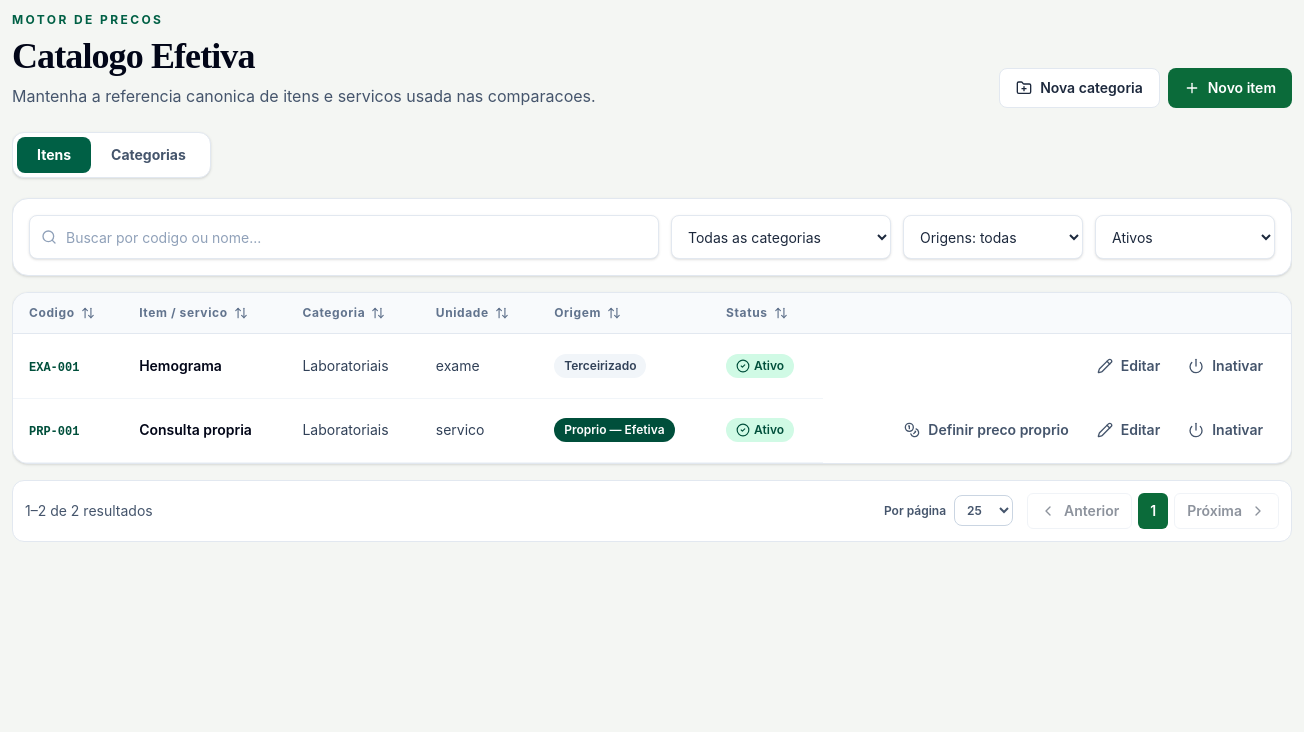
Scenario: CatalogPage › aplica busca e apresenta estado filtrado vazio
Type "inexistente" into the field named "Buscar itens". click: (344, 237)
box: [29,215,659,259]
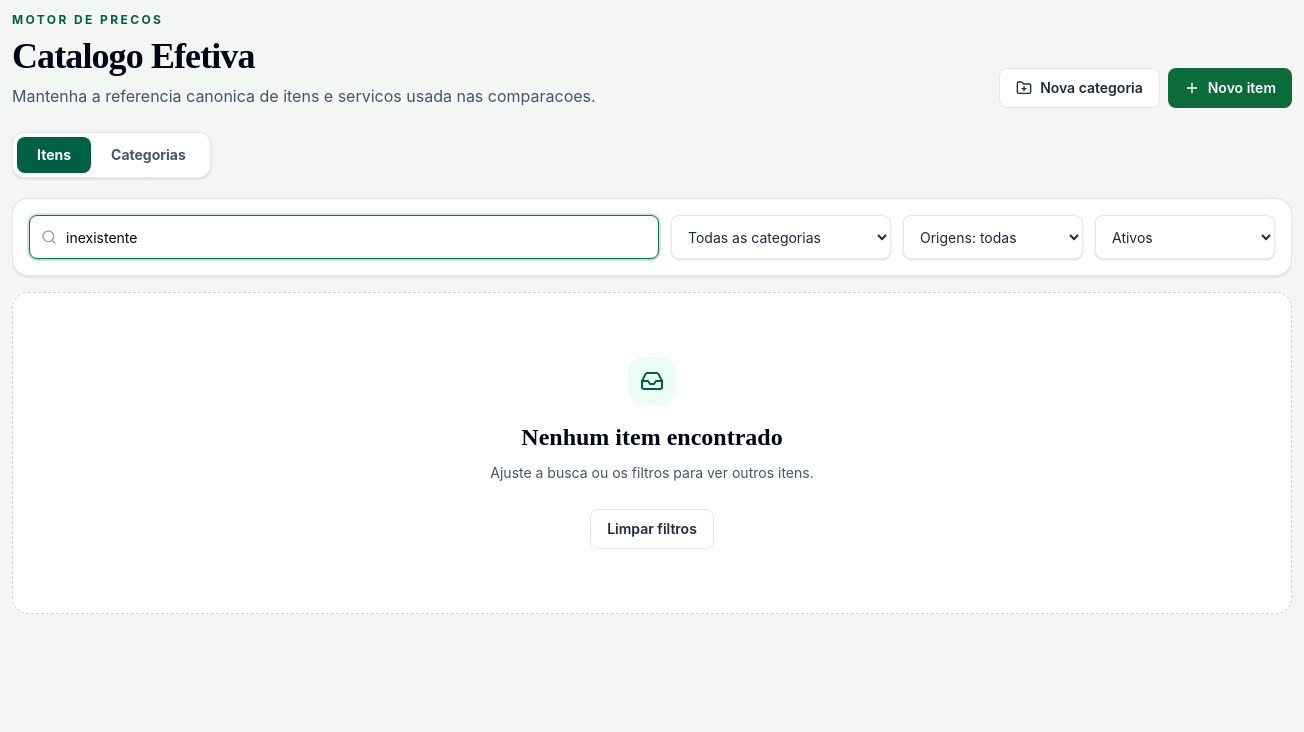
Result: the heading "Nenhum item encontrado" is shown at [521,424,783,450]
